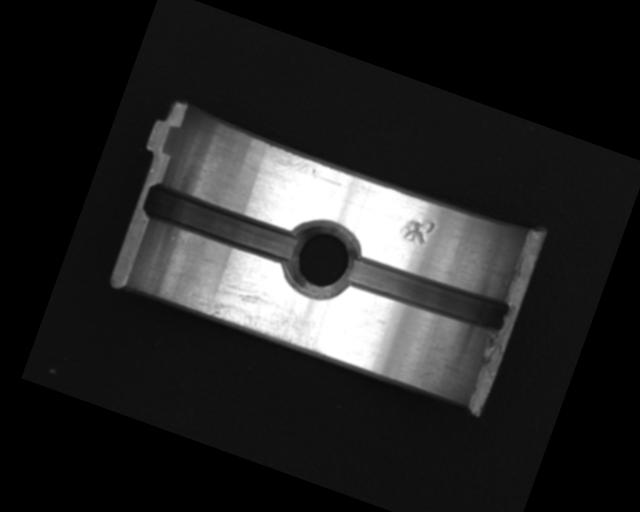bruise: (395, 211, 437, 249)
gap: (341, 244, 514, 340), (140, 180, 303, 268)
hole: (275, 210, 369, 309)
scratch: (182, 263, 342, 359)
